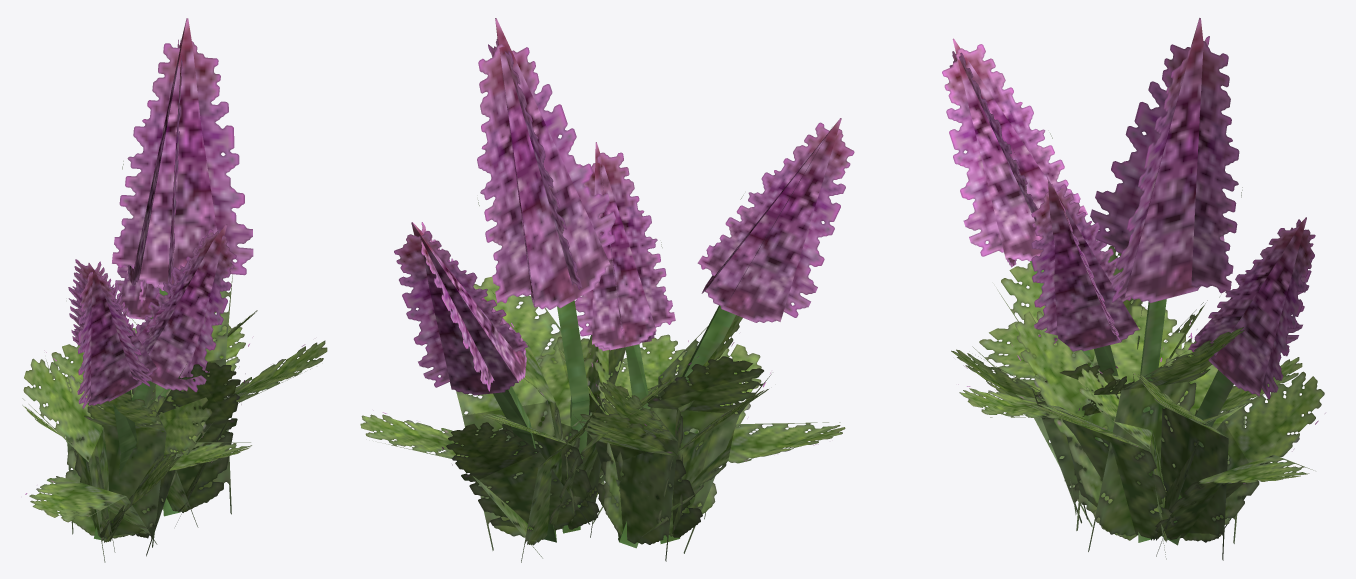
Rendered from C1SNPFWR.obj.
3 views of the same model, side by side, from view 1: azimuth 30°, elevation 25°; view 2: azimuth 150°, elevation 25°; view 3: azimuth 270°, elevation 25° (orthographic). The views are drawn at different scales.
Visible parts, largest first — view 1: Node 0; view 2: Node 0; view 3: Node 0.
Boxes of the visible parts, <box> form: Node 0: <box>22,18,327,562</box>; Node 0: <box>360,18,854,562</box>; Node 0: <box>942,18,1325,560</box>.
Bounding box in the file's own units: 0.81 × 1.11 × 0.76.
Materials: 1 (1 with a texture image).
